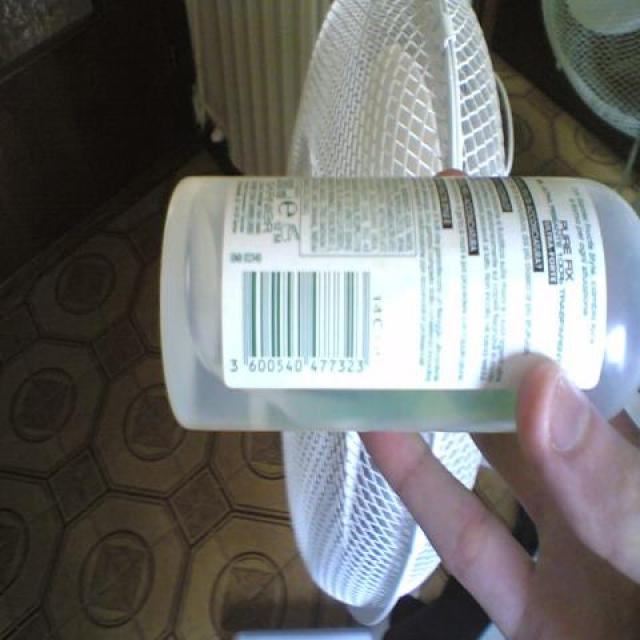Barcode: (227, 263, 389, 381)
